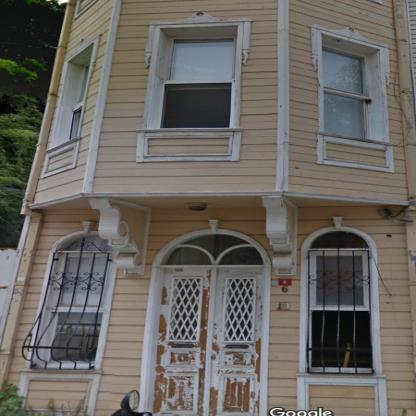door: (152, 270, 261, 413)
window: (310, 255, 372, 369), (160, 38, 233, 128), (47, 256, 108, 363), (322, 46, 368, 139), (166, 235, 263, 265), (69, 63, 90, 139), (310, 231, 368, 248), (66, 236, 111, 250)
